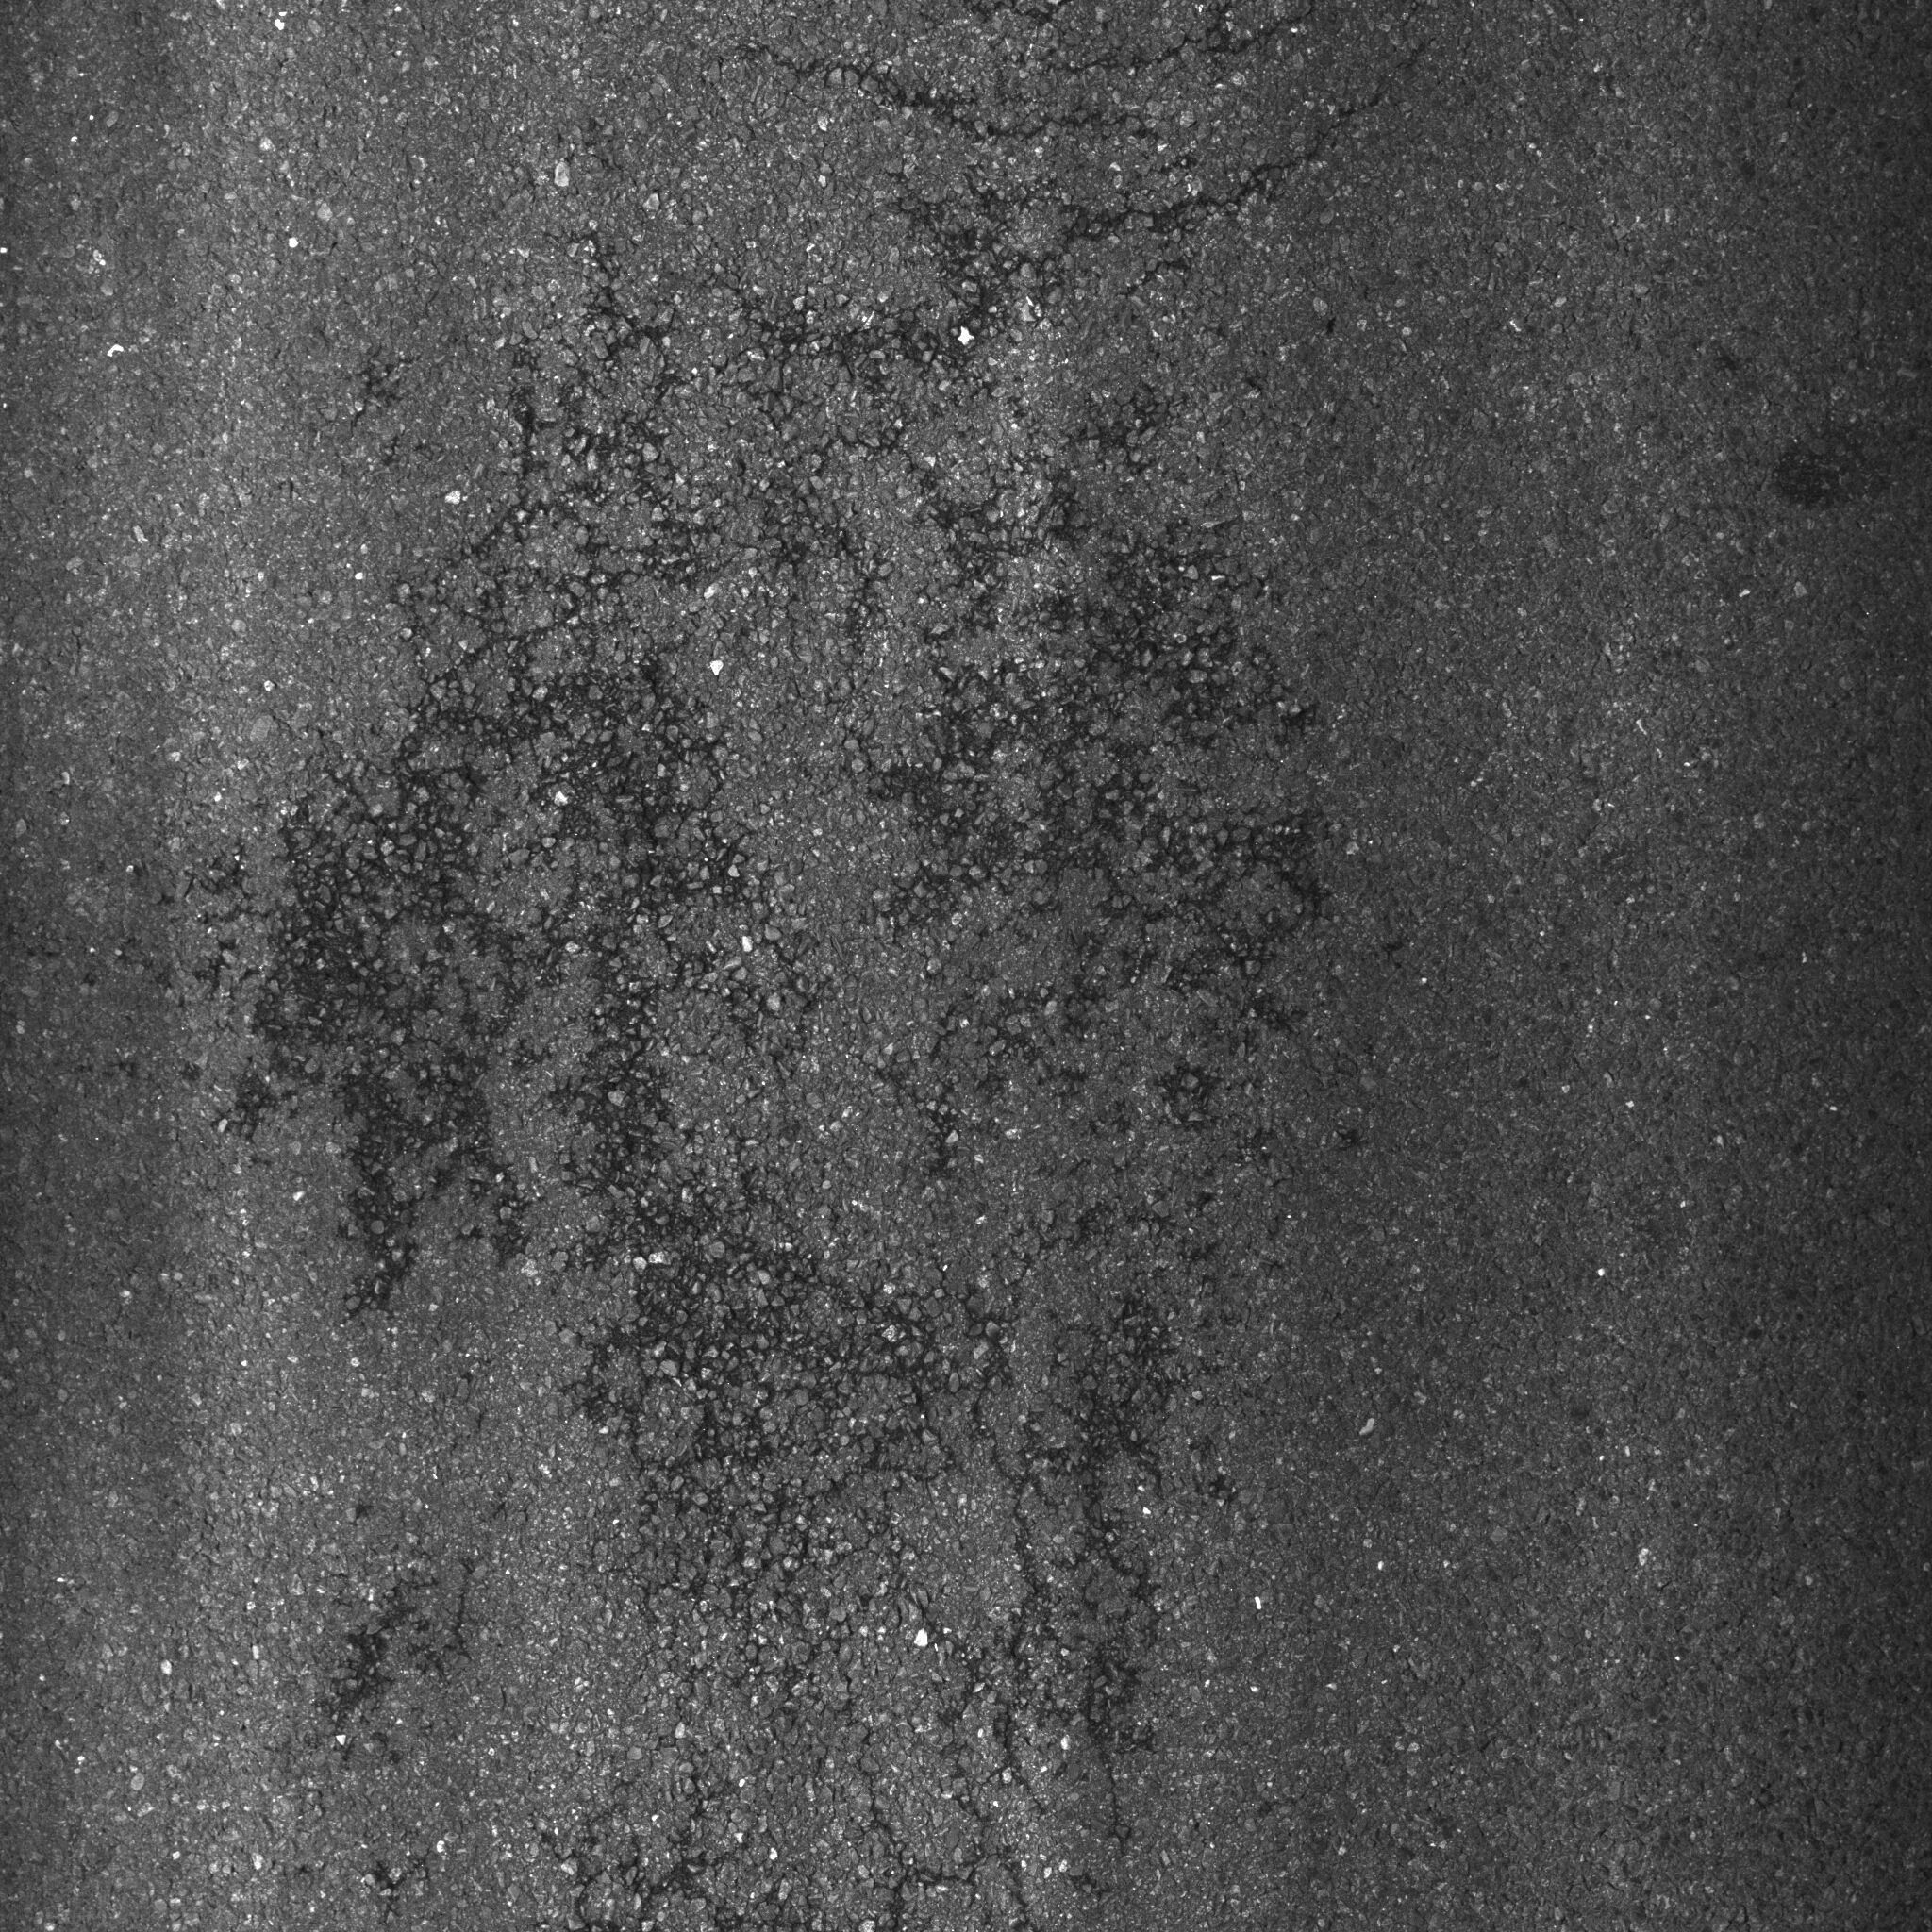alligator: (226, 5, 1421, 1932)
